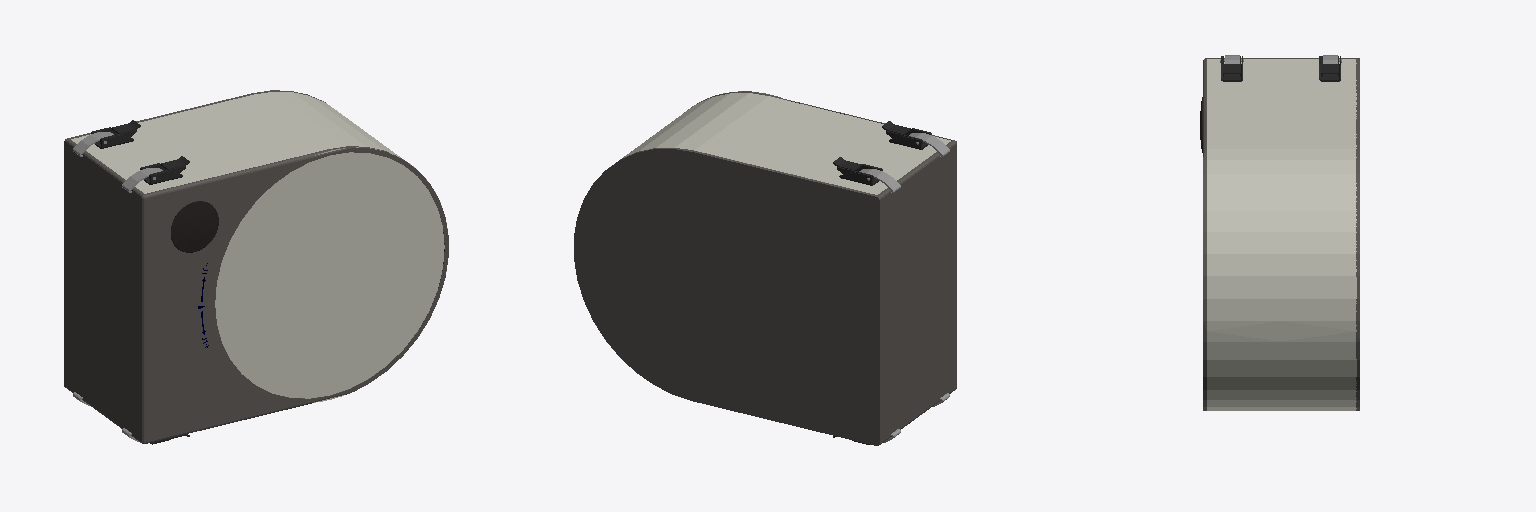
The picture shows the model from 3 angles: view 1: azimuth 30°, elevation 25°; view 2: azimuth 150°, elevation 25°; view 3: azimuth 270°, elevation 25°; orthographic projection.
Visible parts, largest first — view 1: base_mesh_9_Imported19.013; view 2: base_mesh_9_Imported19.013; view 3: base_mesh_9_Imported19.013.
Boxes of the visible parts, x1=… form: base_mesh_9_Imported19.013: x1=64, y1=90, x2=448, y2=444; base_mesh_9_Imported19.013: x1=574, y1=91, x2=956, y2=445; base_mesh_9_Imported19.013: x1=1200, y1=55, x2=1359, y2=410.
Bounding box in the file's own units: 0.3634 × 0.3103 × 0.163.